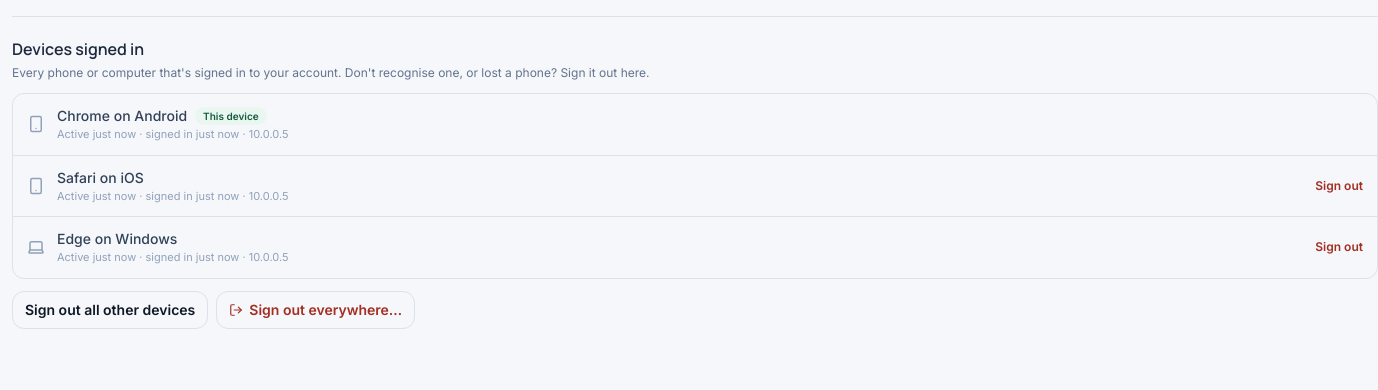
Scenario: DevicesCard — where you are signed in › signing out one device calls the API for that device only and refreshes the list
Click the button with aria-label "Sign out Safari on iOS". click: [1339, 186]
box: [1315,178,1363,194]
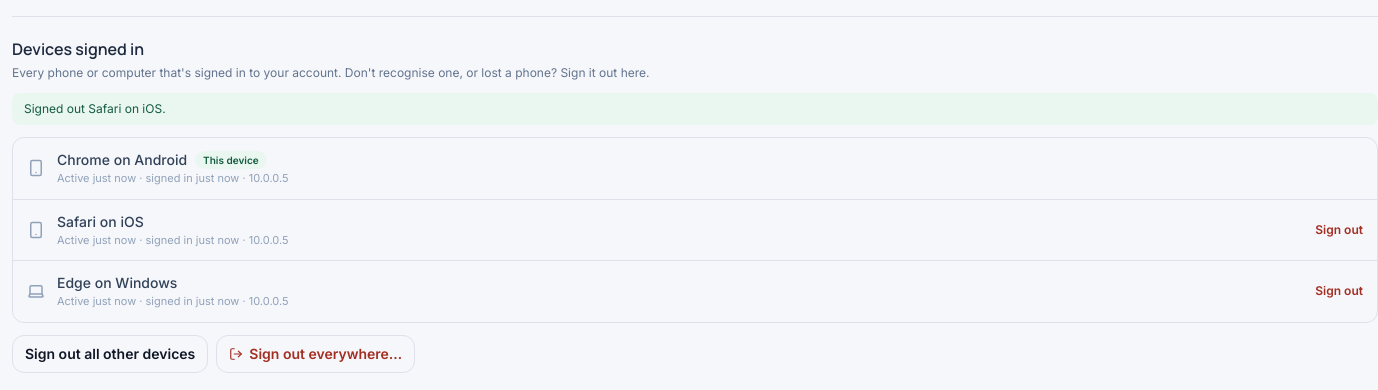
Check: the message shows "Signed out Safari on iOS", box [24,101,166,116]
